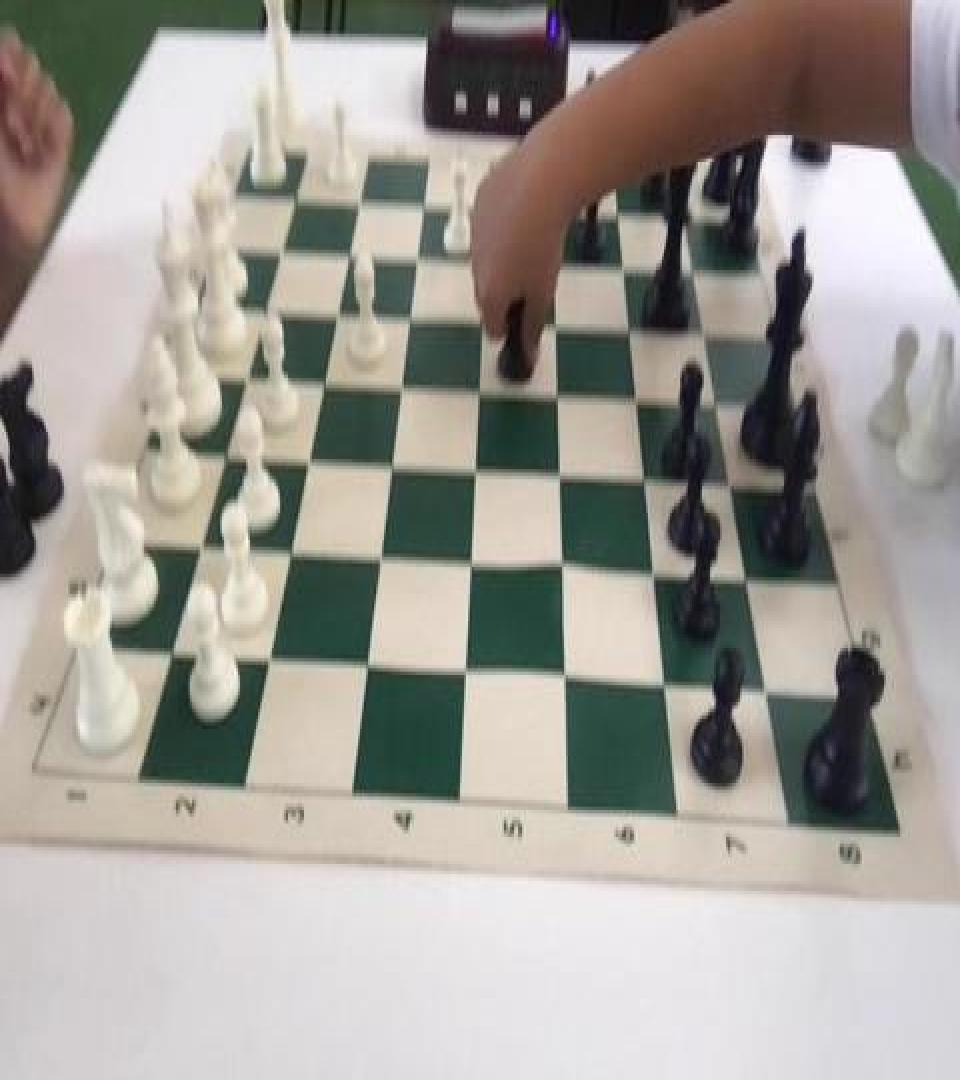xcorner: (607, 197, 631, 238), (543, 194, 567, 235), (415, 187, 439, 228), (613, 251, 637, 292), (544, 246, 568, 287), (341, 236, 365, 277), (546, 307, 570, 348), (473, 302, 497, 343), (329, 295, 353, 336), (258, 290, 282, 331), (469, 371, 493, 412), (392, 366, 416, 407), (315, 361, 339, 402), (718, 464, 742, 505), (281, 528, 305, 569), (192, 523, 216, 564), (754, 668, 778, 709), (356, 641, 380, 682), (672, 201, 696, 241), (479, 191, 503, 231), (352, 184, 376, 224), (289, 181, 313, 221), (681, 255, 705, 295), (476, 243, 500, 283), (408, 240, 432, 280), (274, 233, 298, 273), (692, 316, 716, 356), (619, 311, 643, 351), (401, 299, 425, 339), (704, 385, 728, 425), (625, 380, 649, 420), (547, 375, 571, 415), (239, 358, 263, 398), (633, 459, 657, 499), (549, 454, 573, 494), (465, 449, 489, 489), (382, 444, 406, 484), (299, 439, 323, 479), (217, 434, 241, 474), (735, 559, 759, 599), (643, 552, 667, 592), (551, 547, 575, 587), (460, 540, 484, 580), (370, 535, 394, 575), (654, 662, 678, 702), (554, 655, 578, 695), (455, 648, 479, 688), (259, 635, 283, 675), (162, 628, 186, 668)
